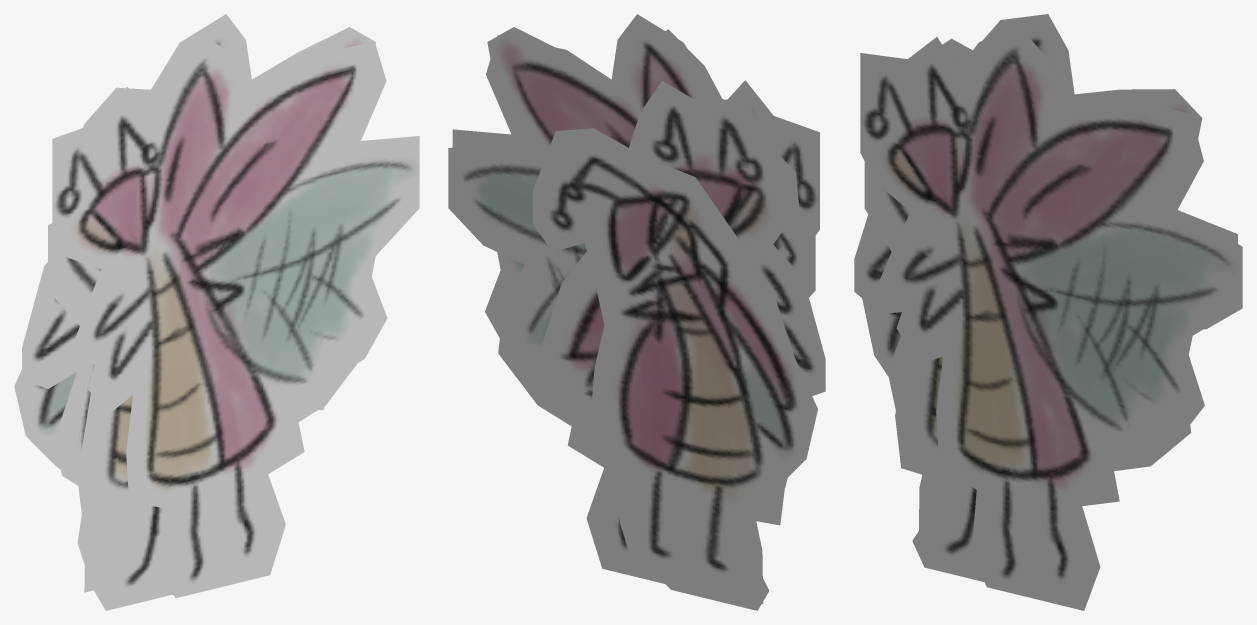
Rendered from RoachHit.fbx.
The picture shows the model from 3 angles, left to right: view 1: azimuth 30°, elevation 25°; view 2: azimuth 150°, elevation 25°; view 3: azimuth 330°, elevation 25°; orthographic projection. The views are drawn at different scales.
Visible parts, largest first — view 1: RoachHit4, RoachHit3, RoachHit2, RoachHit1; view 2: RoachHit1, RoachHit3, RoachHit2, RoachHit4; view 3: RoachHit4, RoachHit3, RoachHit2, RoachHit1.
Boxes of the visible parts, x1,y1,x2,y2 form: RoachHit4: [52, 36, 419, 598]; RoachHit3: [48, 14, 375, 610]; RoachHit2: [22, 87, 150, 592]; RoachHit1: [14, 370, 87, 565]; RoachHit1: [532, 128, 817, 599]; RoachHit3: [448, 14, 815, 610]; RoachHit2: [540, 81, 825, 603]; RoachHit4: [452, 29, 819, 583]; RoachHit4: [860, 23, 1237, 610]; RoachHit3: [864, 14, 1242, 581]; RoachHit2: [854, 38, 972, 530]; RoachHit1: [862, 299, 901, 376].
Size of the model in its own units: 97.98 by 138 by 8.81.
Materials: 1 (1 with a texture image).
